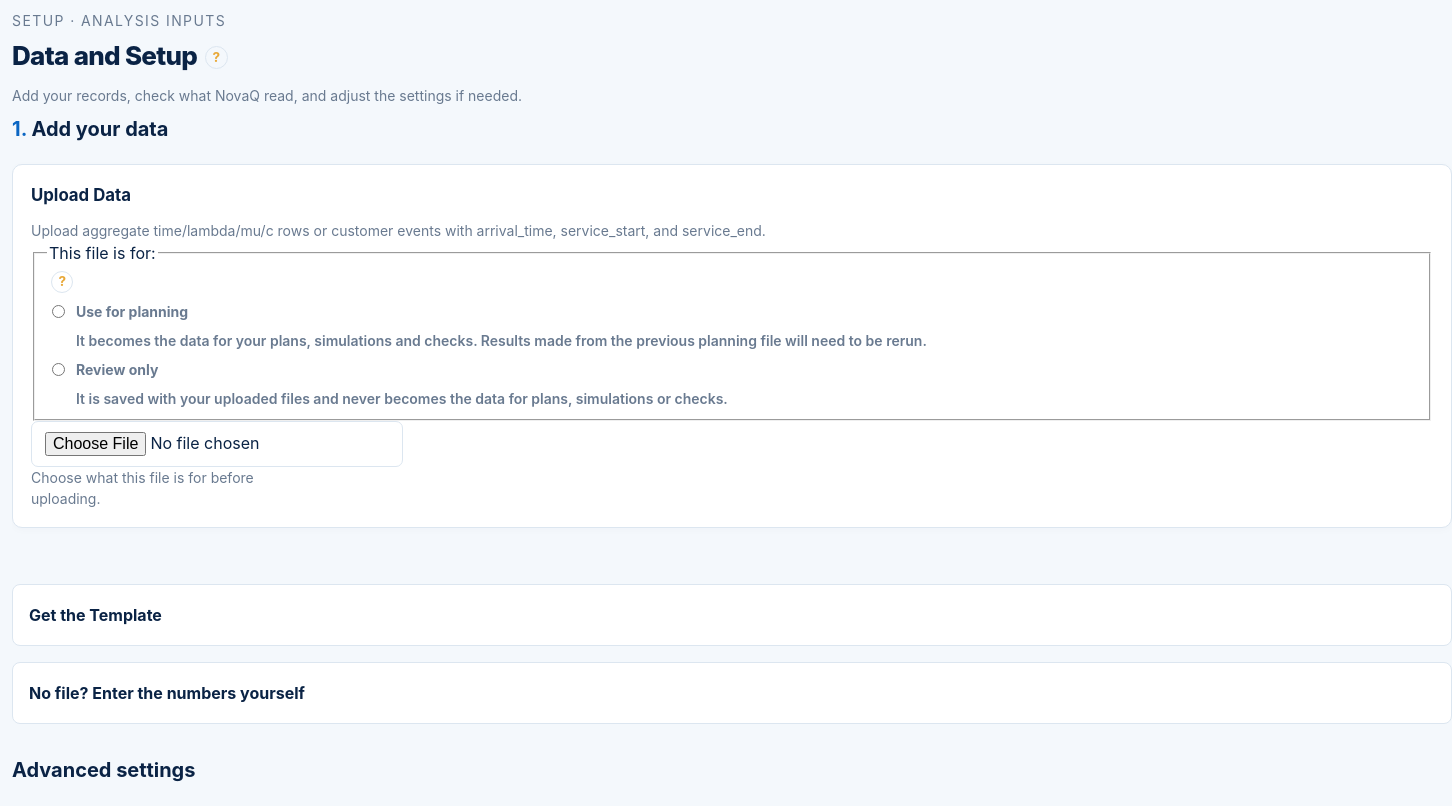
it: Enter numbers without a file (B9) › refuses hours that would run past midnight
Click the heading "No file? Enter the numbers yourself": coordinates (167, 693) [29,683,305,703]
(page scrolled)
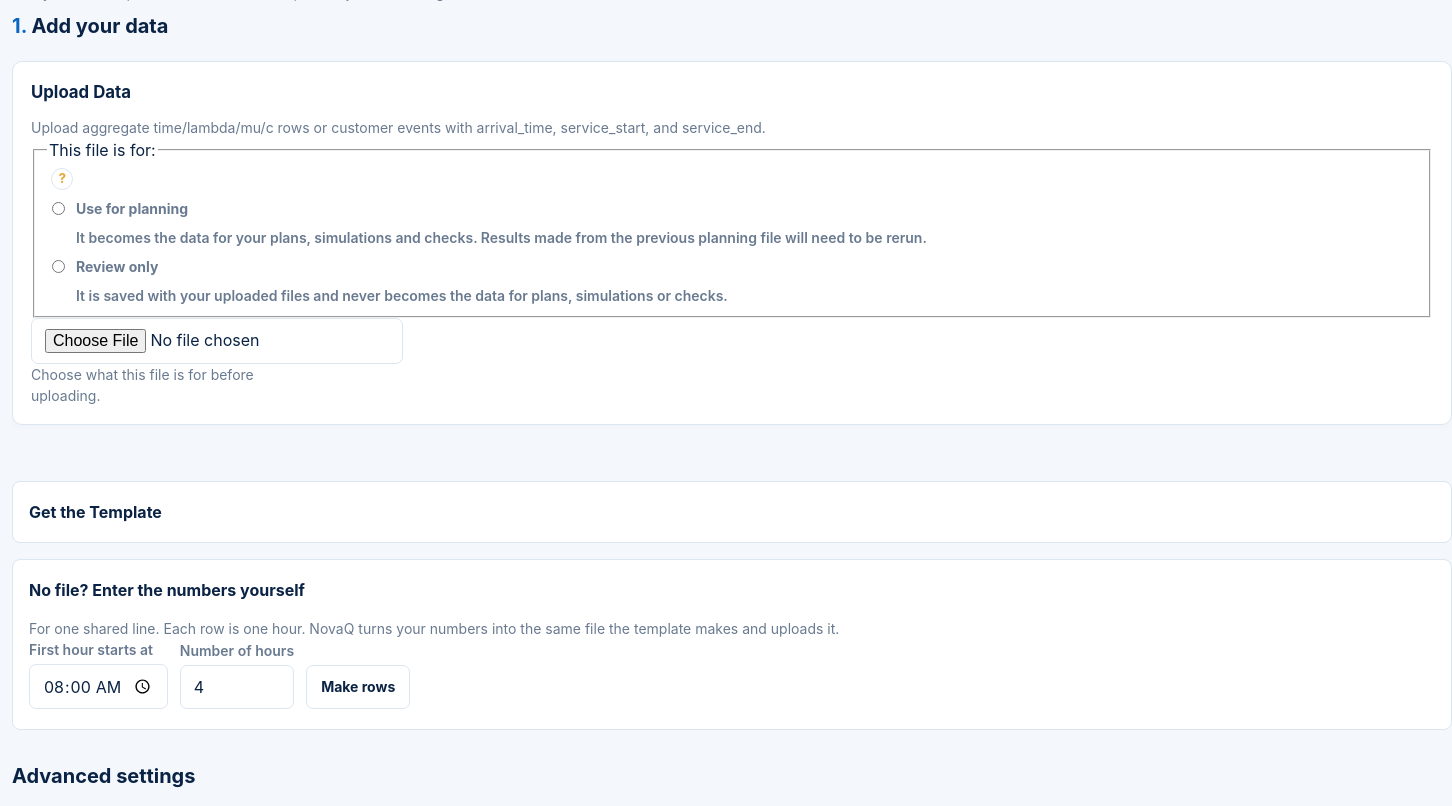
Clear the time field labelled "First hour starts at": coordinates (98, 687) [29,664,168,709]
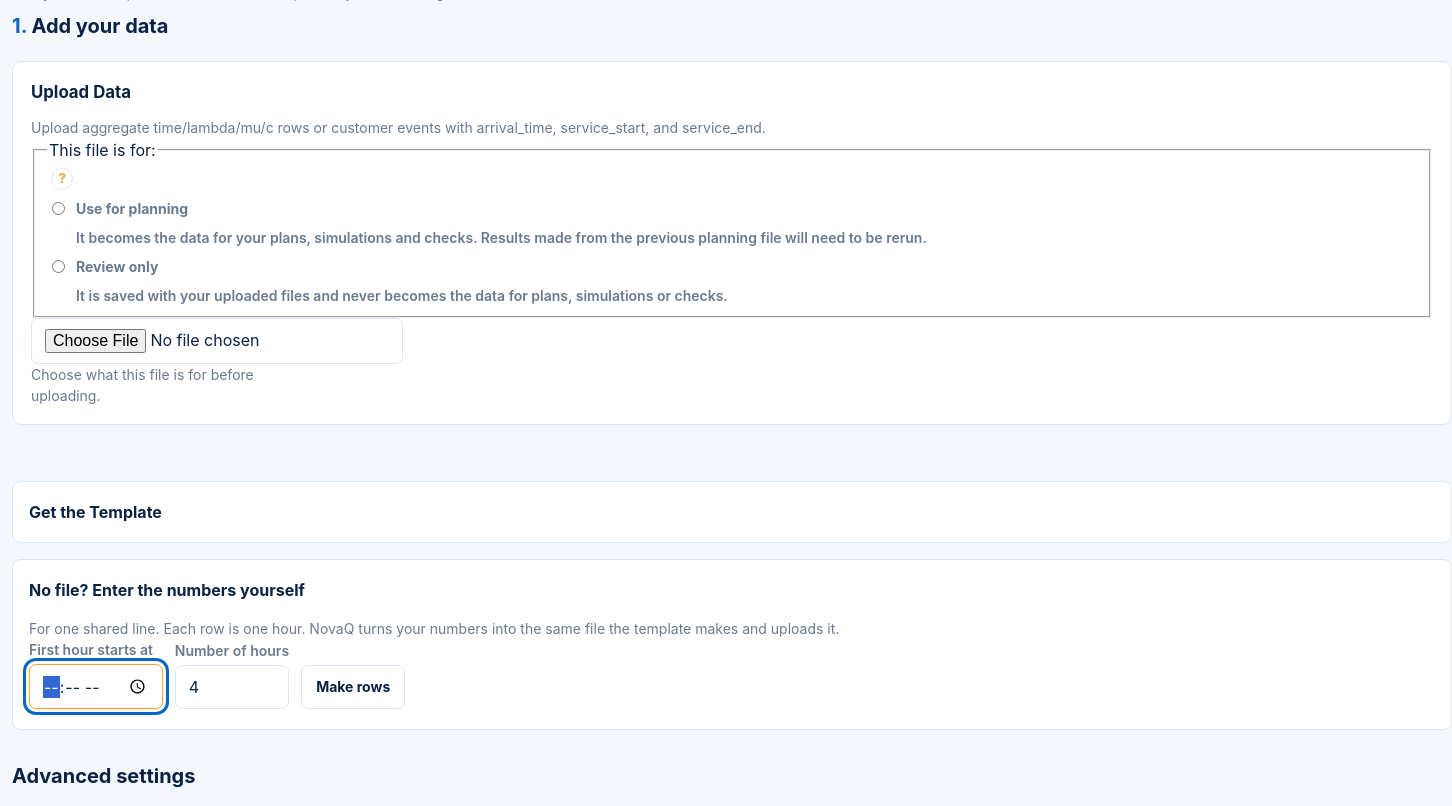
In the time field labelled "First hour starts at": coordinates (96, 687) [29,664,163,709], type "22:00"
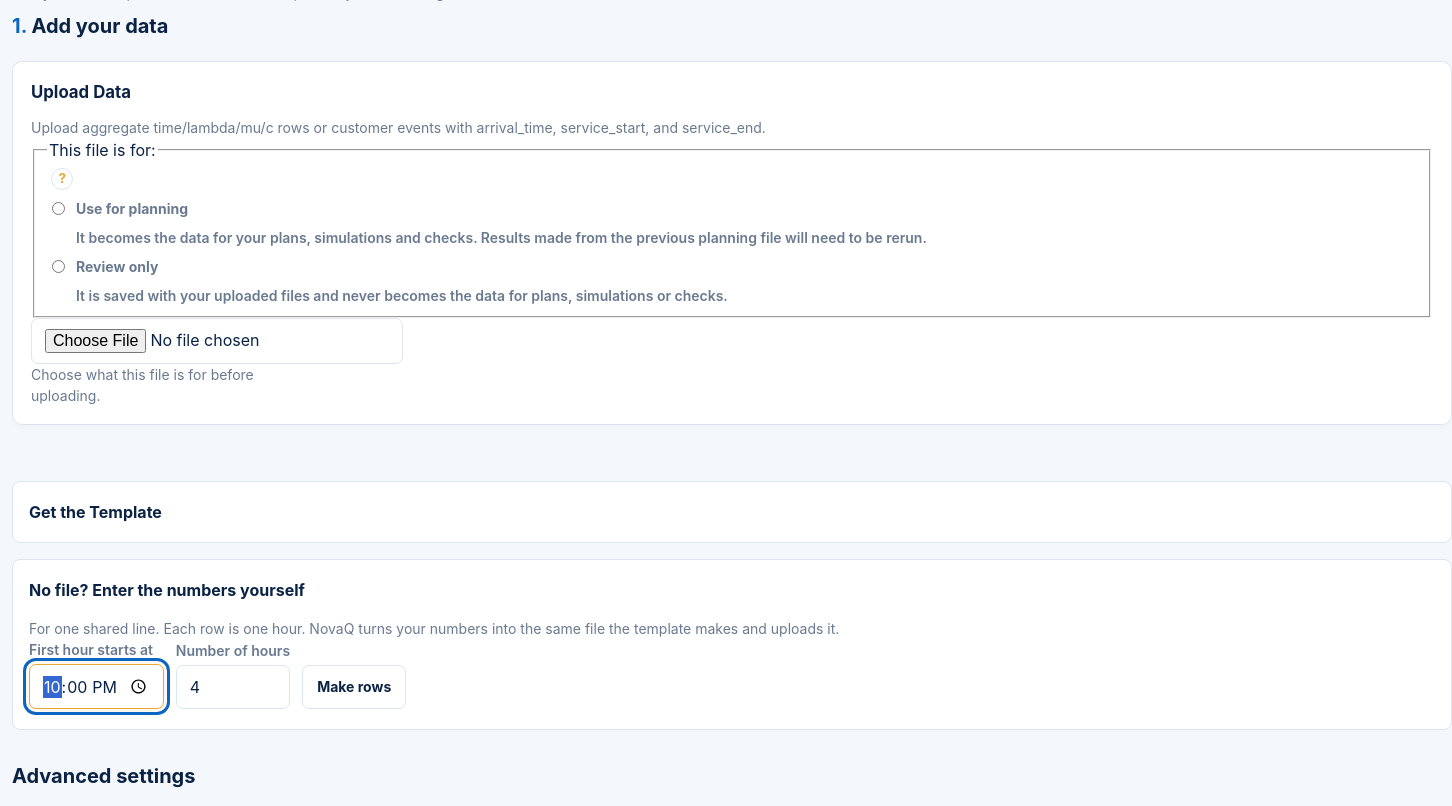
Replace the text in the number field labelled "Number of hours" with "3": coordinates (233, 687) [176,665,290,709]
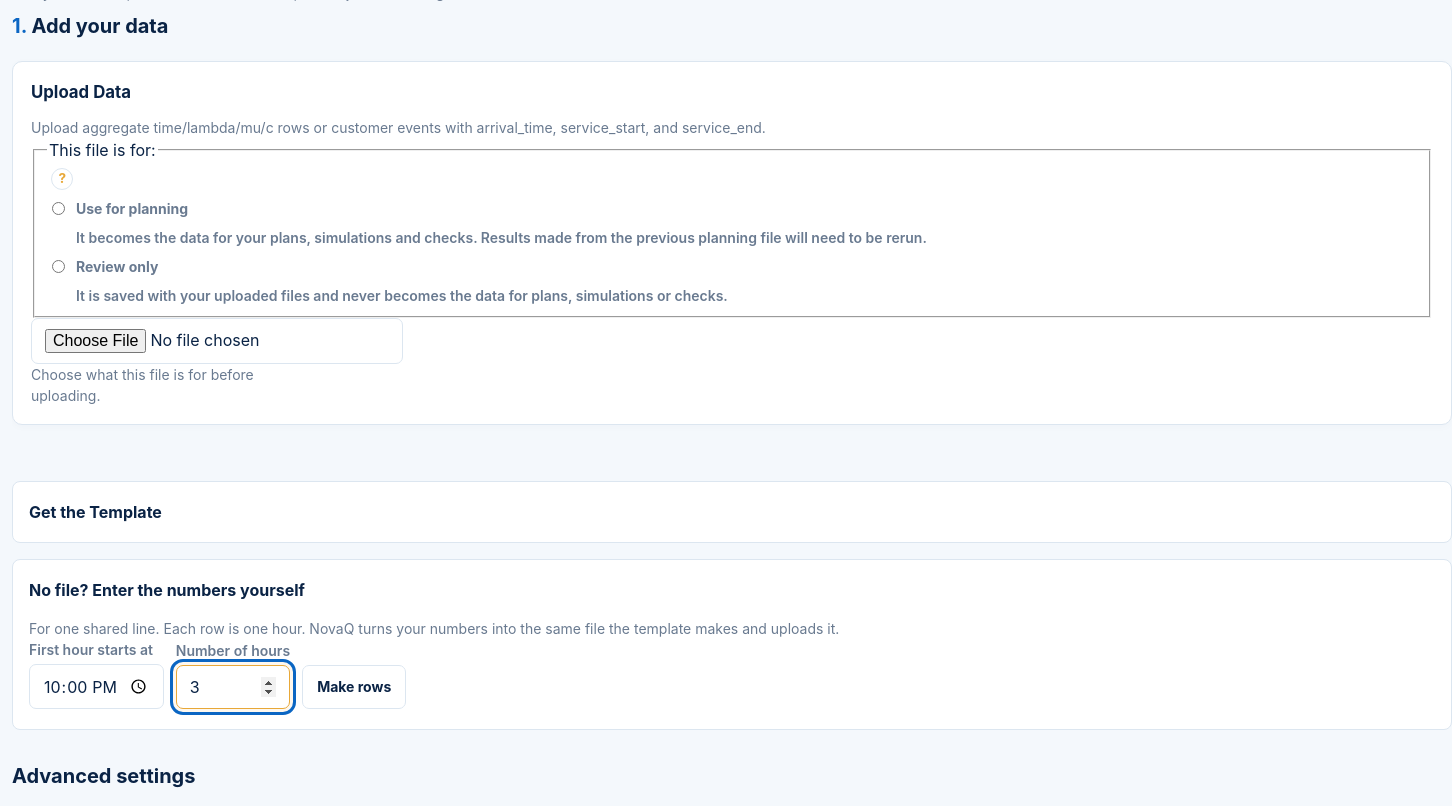
Click the button "Make rows": coordinates (354, 687) [302,665,406,709]
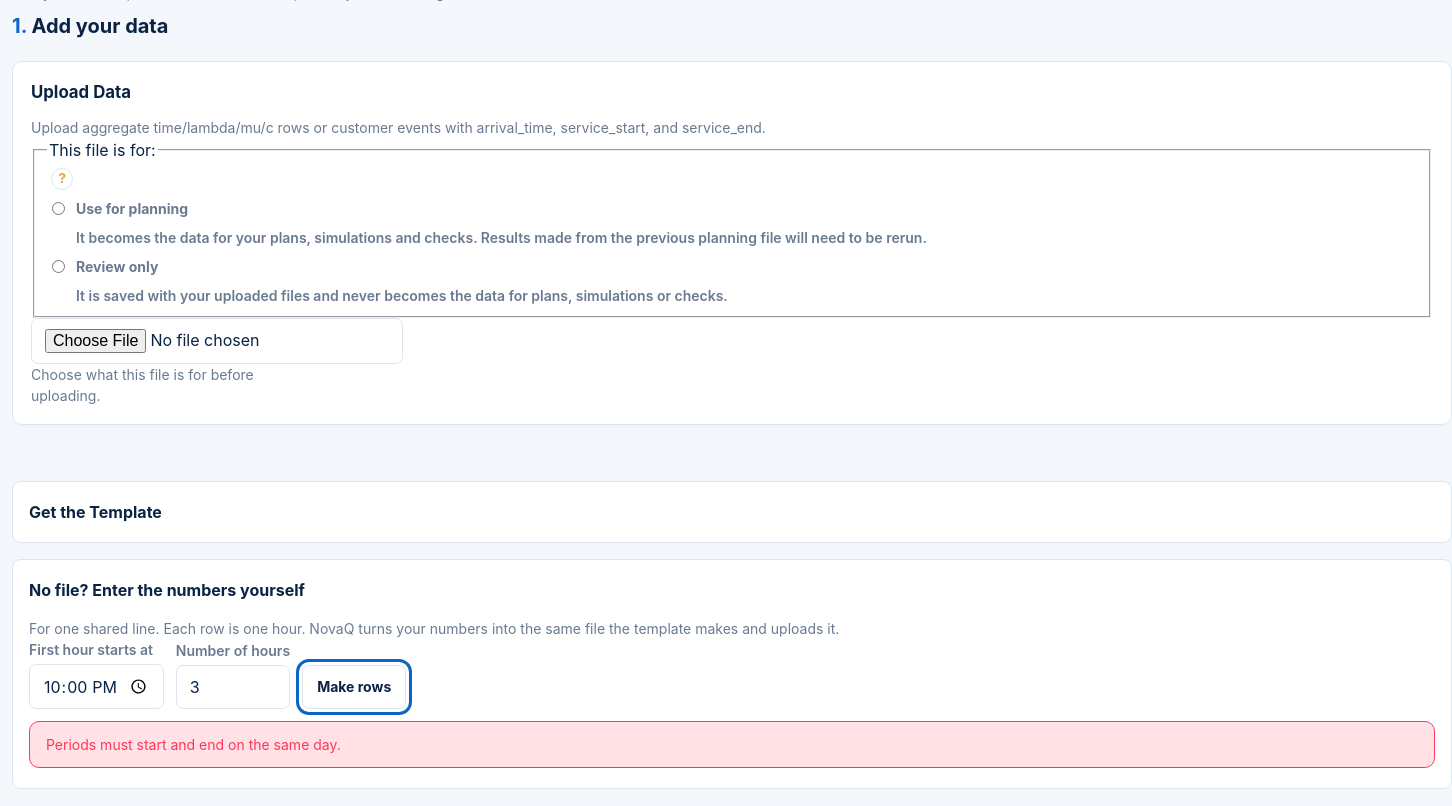
Now the message reads "Periods must start and end on the same day.", box [46,736,341,753]
